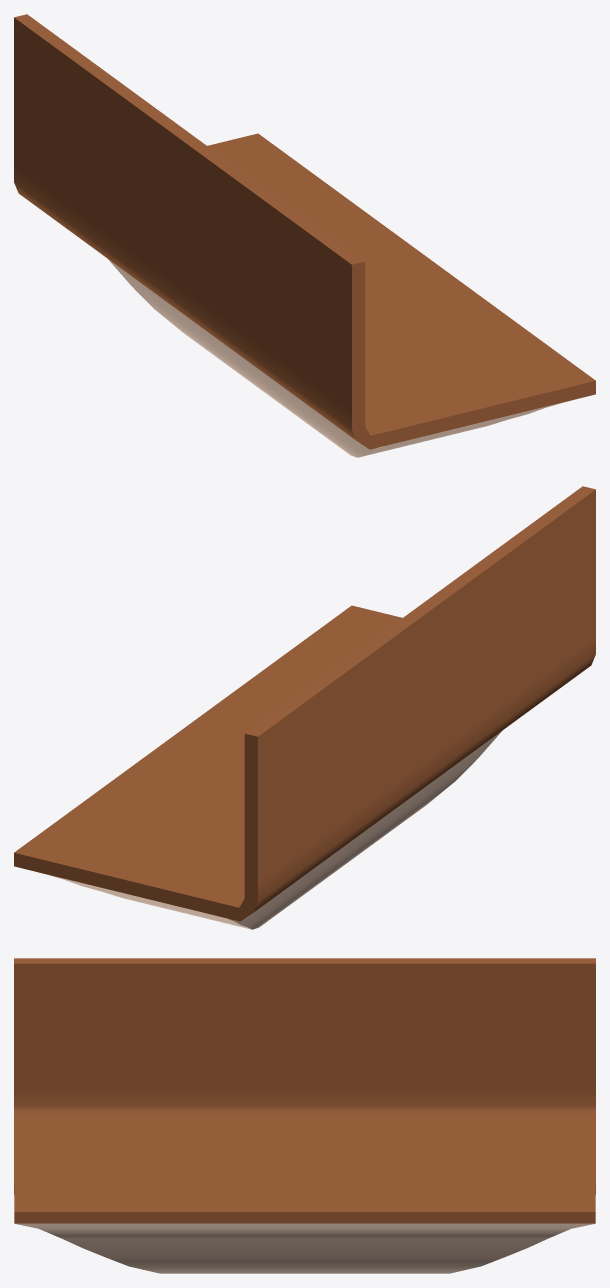
Rendered from bench.fbx.
3 views of the same model, one above another, from view 1: azimuth 30°, elevation 25°; view 2: azimuth 150°, elevation 25°; view 3: azimuth 270°, elevation 25° (orthographic). The views are drawn at different scales.
Visible parts, largest first — view 1: bench; view 2: bench; view 3: bench.
Boxes of the visible parts, bbox=[...] form: bench: bbox=[14, 14, 595, 457]; bench: bbox=[14, 486, 595, 929]; bench: bbox=[14, 958, 595, 1273].
Size of the model in its own units: 1.23 by 1.38 by 2.94.
